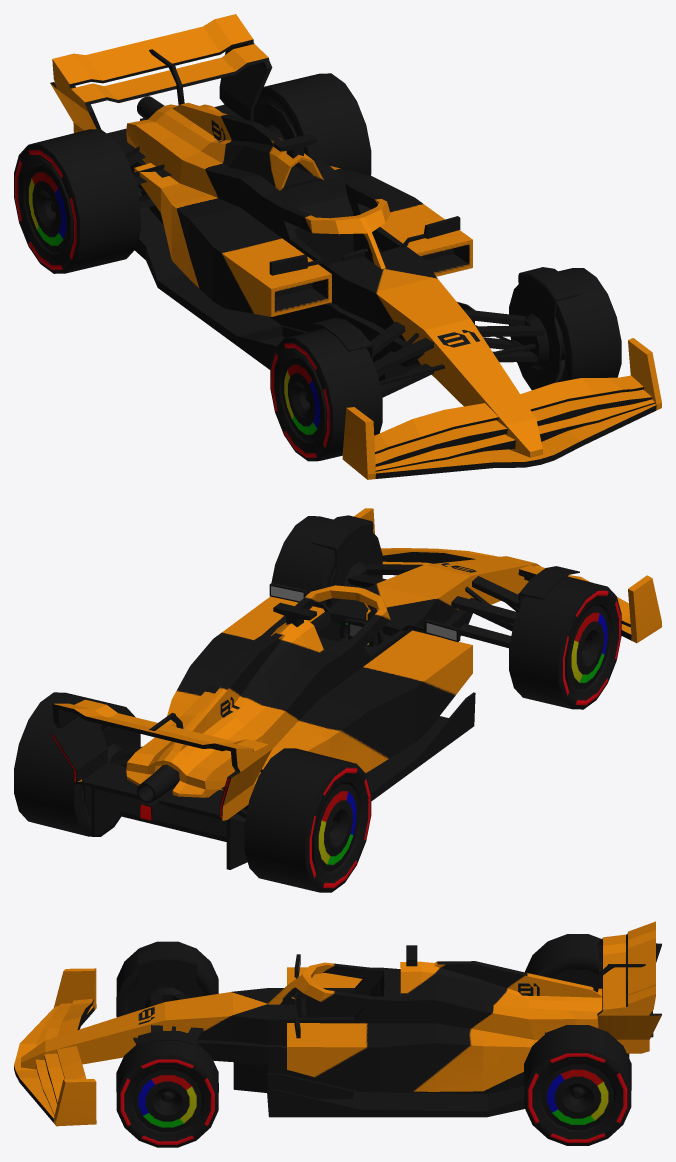
The picture shows the model from 3 angles, top to bottom: view 1: azimuth 30°, elevation 25°; view 2: azimuth 150°, elevation 25°; view 3: azimuth 270°, elevation 25°; orthographic projection. The views are drawn at different scales.
Parts seen in each view (by area): view 1: Body, Front Wing Base, Rear Wing, Tire_RR, Bottom, Tire_FR, Tire_RL, Tire_FL, InsideCover_FL, Rim_RR, Rim_FR, Body Halo (+6 smaller); view 2: Body, Tire_RR, Rear Wing, Tire_FR, Bottom, Tire_RL, Rim_RR, Front Wing Base, Rim_FR, Tire_FL, InsideCover_FL, FrontSuspension_R (+7 smaller); view 3: Body, Bottom, Front Wing Base, Rear Wing, Tire_RL, Rim_RL, Rim_FL, Tire_FL, InsideCover_FR, Tire_RR, Body Halo, Tire_FR (+4 smaller).
Boxes of the visible parts, box(x1,y1,x2,y2) form: Body: box(126, 102, 542, 457); Front Wing Base: box(342, 338, 661, 479); Rear Wing: box(50, 14, 272, 154); Tire_RR: box(14, 129, 140, 273); Bottom: box(130, 159, 475, 380); Tire_FR: box(270, 328, 382, 461); Tire_RL: box(253, 73, 371, 175); Tire_FL: box(509, 268, 621, 390); InsideCover_FL: box(511, 267, 579, 388); Rim_RR: box(19, 158, 72, 260); Rim_FR: box(275, 351, 326, 449); Body Halo: box(279, 187, 390, 269); Body: box(126, 556, 541, 797); Tire_RR: box(244, 748, 371, 892); Rear Wing: box(50, 699, 272, 821); Tire_FR: box(509, 576, 621, 709); Bottom: box(91, 597, 477, 869); Tire_RL: box(14, 692, 140, 836); Rim_RR: box(312, 777, 366, 879); Front Wing Base: box(354, 508, 661, 643); Rim_FR: box(565, 599, 616, 697); Tire_FL: box(271, 516, 382, 608); InsideCover_FL: box(312, 515, 380, 608); FrontSuspension_R: box(451, 576, 518, 648); Body: box(21, 954, 602, 1091); Bottom: box(197, 1040, 629, 1117); Front Wing Base: box(14, 968, 96, 1126); Rear Wing: box(593, 921, 661, 1053); Tire_RL: box(524, 1025, 631, 1145); Rim_RL: box(535, 1059, 620, 1136); Rim_FL: box(127, 1065, 207, 1138); Tire_FL: box(116, 1041, 218, 1147); InsideCover_FR: box(128, 948, 205, 1013); Tire_RR: box(525, 934, 601, 977); Body Halo: box(268, 962, 372, 1008); Tire_FR: box(116, 941, 218, 1017).
Size of the model in its own units: 149 by 82.55 by 351.
Materials: 8 (4 with a texture image).
